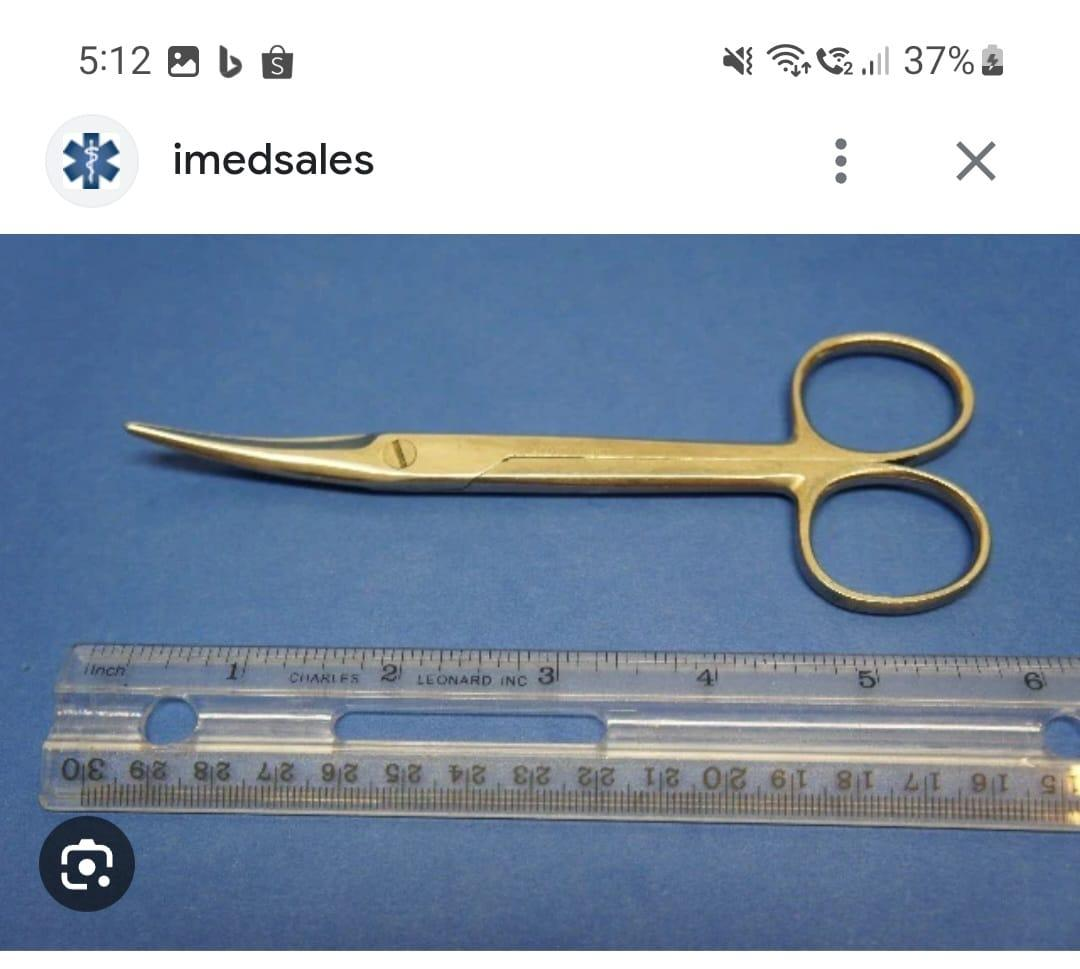Curved Mayo: (120, 330, 1007, 617)
